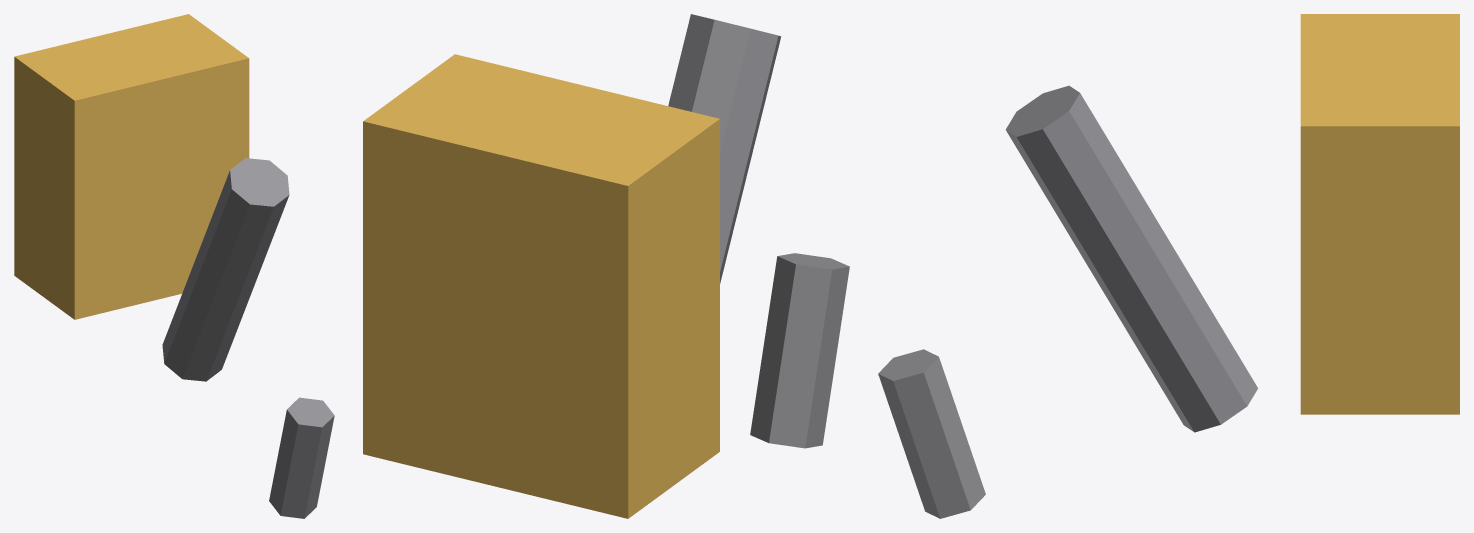
Rendered from blower.glb.
3 renders of one model, left to right at view 1: azimuth 30°, elevation 25°; view 2: azimuth 150°, elevation 25°; view 3: azimuth 270°, elevation 25°, orthographic. The views are drawn at different scales.
Parts seen in each view (by area): view 1: Blower; view 2: Blower; view 3: Blower.
Boxes of the visible parts, left/top/right/bottom form: Blower: left=14, top=14, right=334, bottom=518; Blower: left=363, top=14, right=849, bottom=518; Blower: left=878, top=14, right=1459, bottom=518.
Bounding box in the file's own units: 0.25 × 0.4589 × 0.548.
